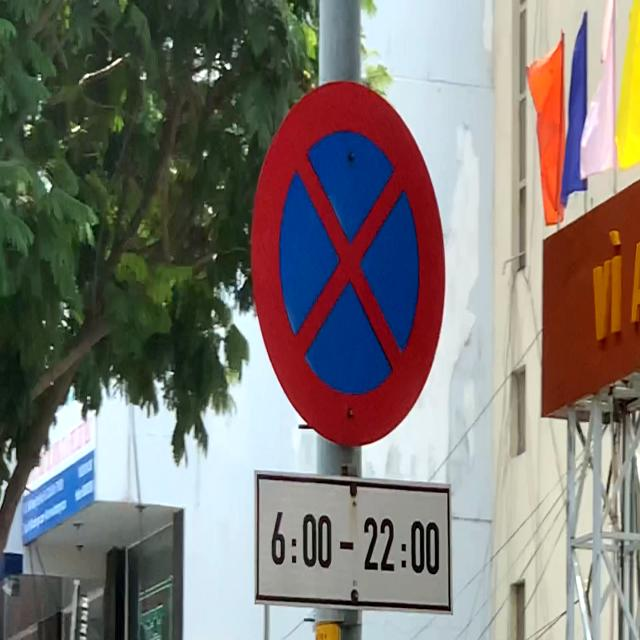P.130: (251, 78, 446, 450)
